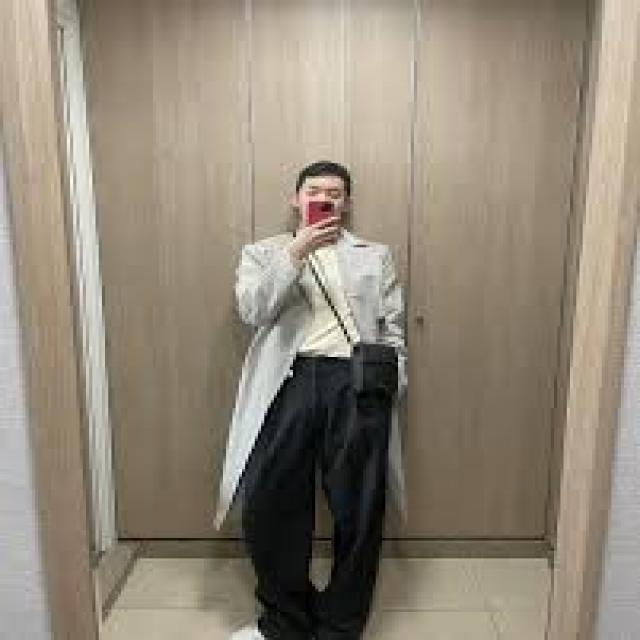Phone: (303, 195, 343, 247)
